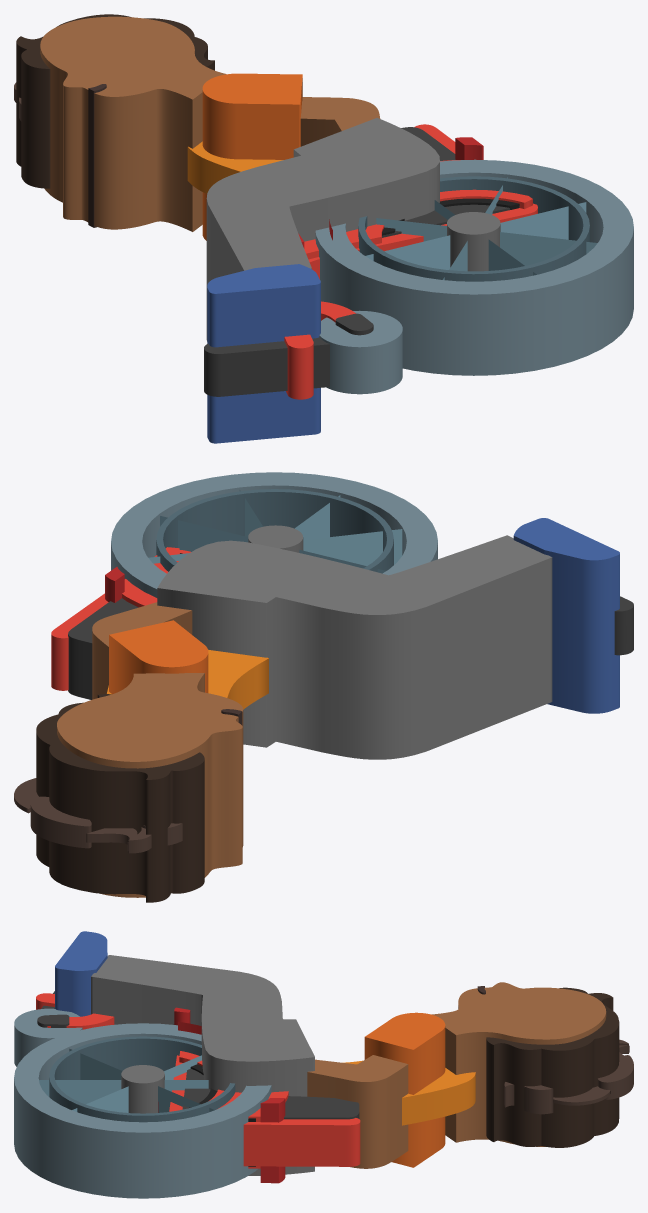
Rendered from emoji_u1f9d1_1f3fe_200d_1f9bd.glb.
The picture shows the model from 3 angles, top to bottom: view 1: azimuth 30°, elevation 25°; view 2: azimuth 150°, elevation 25°; view 3: azimuth 270°, elevation 25°; orthographic projection. The views are drawn at different scales.
Visible parts, largest first — view 1: emoji_u1f9d1_1f3fe_200d_1f9bd; view 2: emoji_u1f9d1_1f3fe_200d_1f9bd; view 3: emoji_u1f9d1_1f3fe_200d_1f9bd.
Boxes of the visible parts, x1,y1,x2,y2 form: emoji_u1f9d1_1f3fe_200d_1f9bd: [14, 14, 633, 443]; emoji_u1f9d1_1f3fe_200d_1f9bd: [14, 472, 633, 902]; emoji_u1f9d1_1f3fe_200d_1f9bd: [14, 931, 633, 1198].
Bounding box in the file's own units: 0.0219 × 0.007 × 0.0324.
